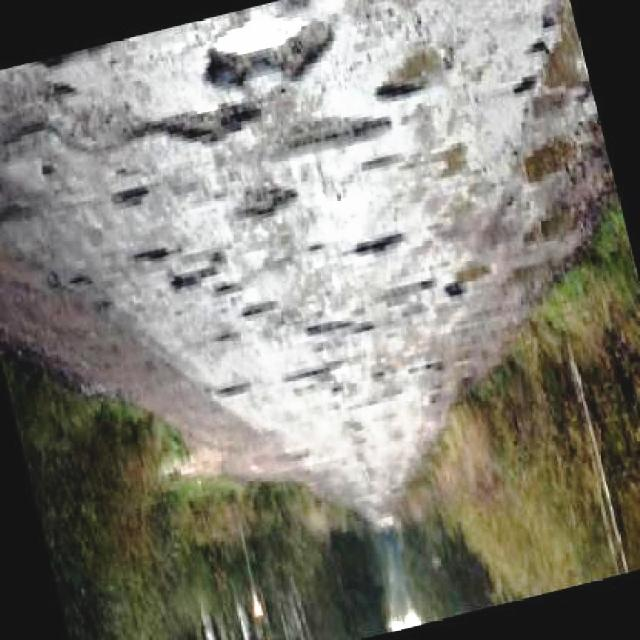pothole: (203, 6, 346, 94), (5, 76, 132, 156), (366, 40, 463, 105), (277, 115, 394, 168), (532, 2, 591, 106), (143, 102, 282, 143), (518, 196, 580, 256), (520, 125, 580, 180), (232, 180, 296, 223), (442, 140, 480, 178), (457, 256, 497, 286), (111, 183, 149, 212)
